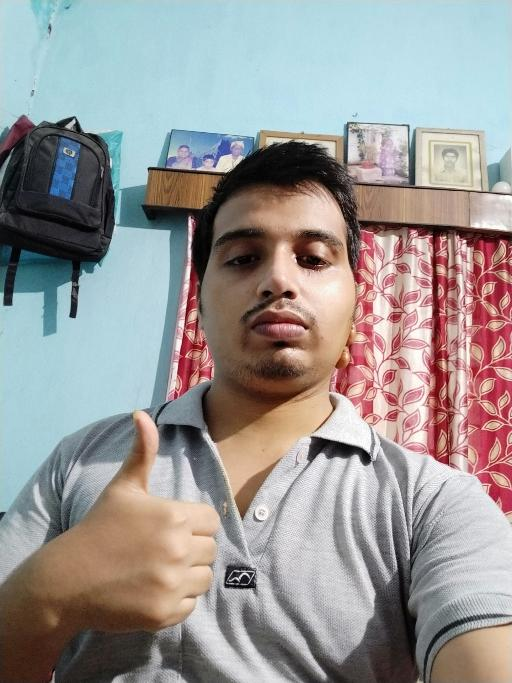like: (66, 408, 221, 637)
